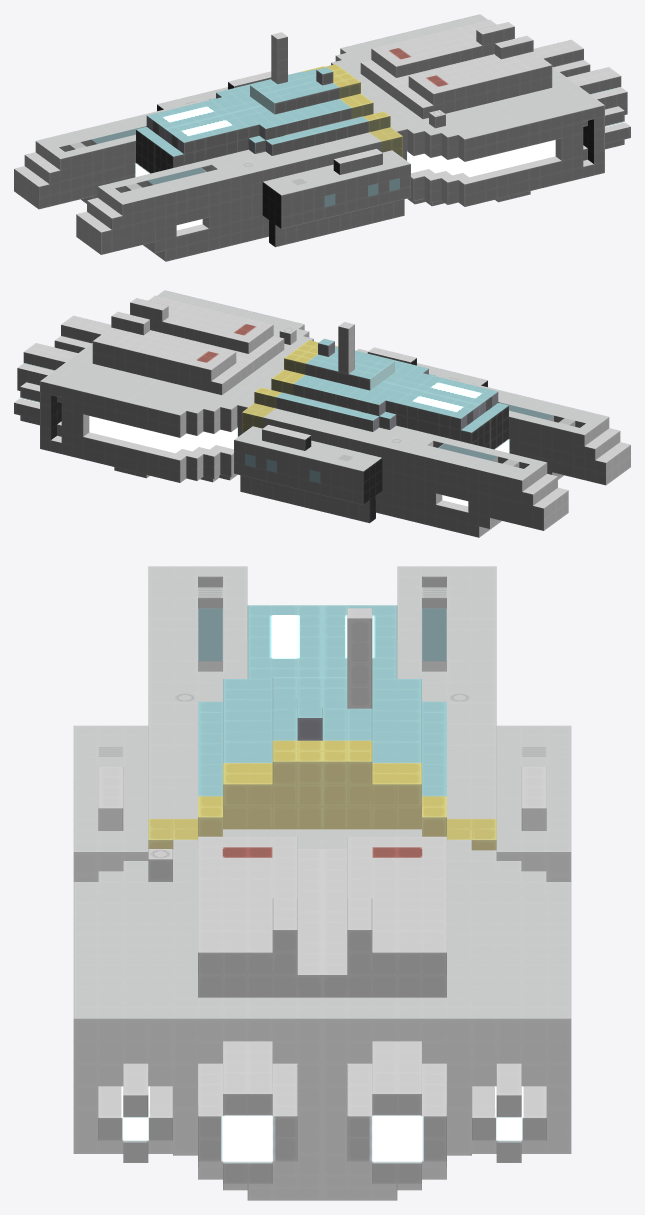
Rendered from spaceship.glb.
3 views of the same model, one above another, from view 1: azimuth 30°, elevation 25°; view 2: azimuth 150°, elevation 25°; view 3: azimuth 270°, elevation 25° (orthographic). The views are drawn at different scales.
Parts seen in each view (by area): view 1: spaceship_body_low, spaceship_adds_low; view 2: spaceship_body_low, spaceship_adds_low; view 3: spaceship_body_low, spaceship_adds_low.
Part boxes in pixels (x1,y1,x2,y2): spaceship_body_low: [14, 14, 624, 261]; spaceship_adds_low: [271, 32, 630, 143]; spaceship_body_low: [20, 290, 630, 537]; spaceship_adds_low: [14, 322, 354, 419]; spaceship_body_low: [73, 566, 571, 1200]; spaceship_adds_low: [98, 608, 546, 1161].
Bounding box in the file's own units: 50 × 16 × 20.
Materials: 1 (1 with a texture image).
